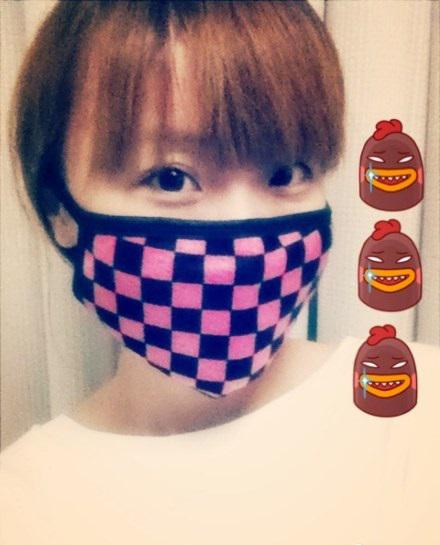OK: (68, 117, 333, 382)
